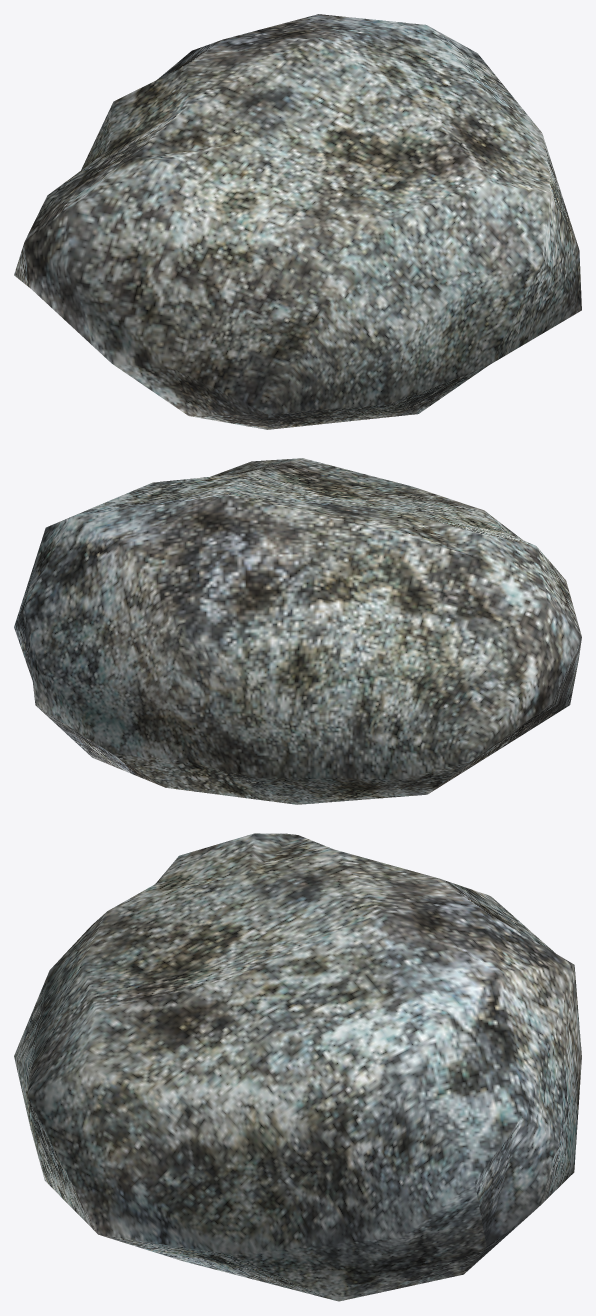
File: Rock3C.fbx
The picture shows the model from 3 angles, top to bottom: view 1: azimuth 30°, elevation 25°; view 2: azimuth 150°, elevation 25°; view 3: azimuth 270°, elevation 25°; orthographic projection. The views are drawn at different scales.
Visible parts, largest first — view 1: polySurface18; view 2: polySurface18; view 3: polySurface18.
Boxes of the visible parts, left/top/right/bottom form: polySurface18: left=14, top=14, right=581, bottom=429; polySurface18: left=14, top=458, right=581, bottom=804; polySurface18: left=14, top=833, right=581, bottom=1301.
Bounding box in the file's own units: 2.63 × 1.37 × 2.27.
